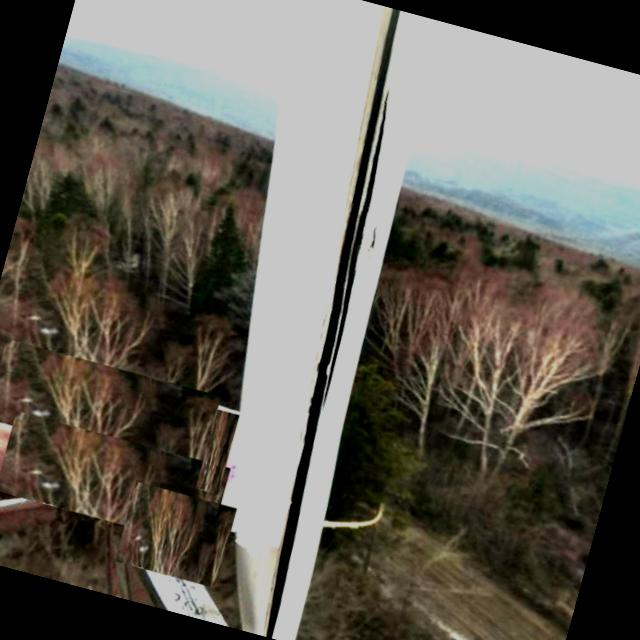crack: (217, 8, 445, 628)
